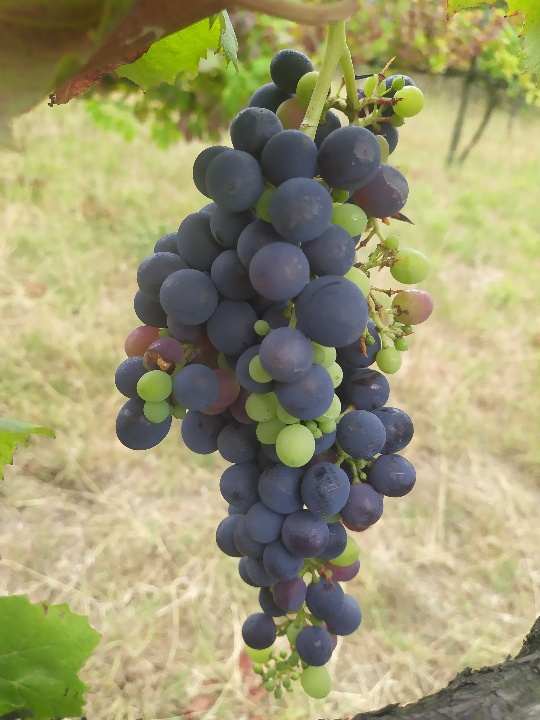grape: (111, 48, 440, 701)
